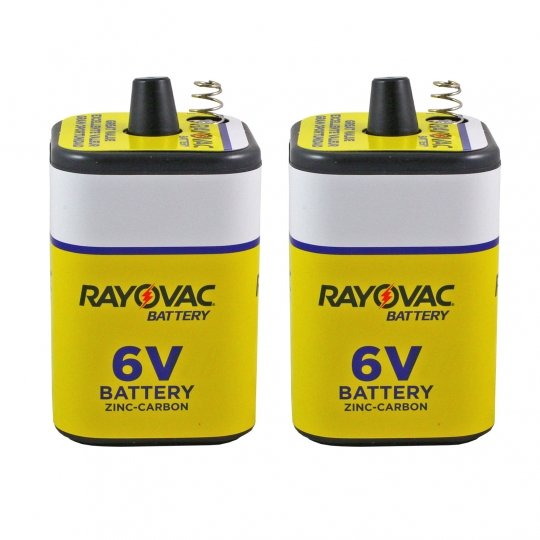6V: (282, 72, 510, 456), (44, 73, 270, 453)
